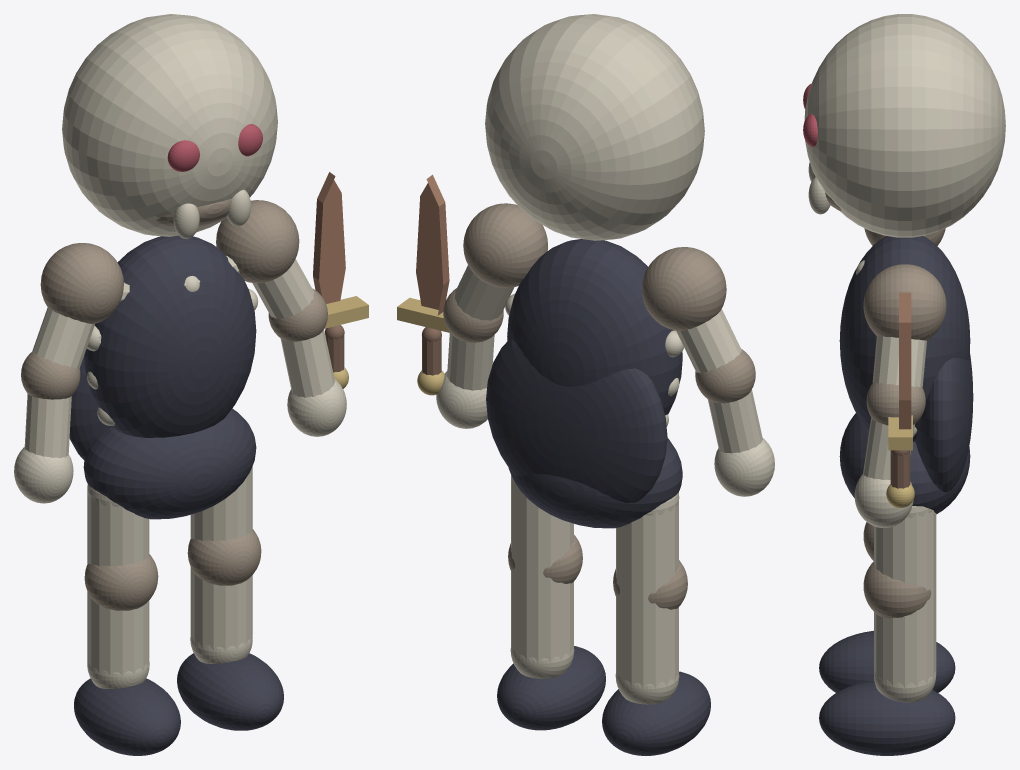
The model's file is monster_bone_skeleton.glb.
The picture shows the model from 3 angles, left to right: view 1: azimuth 30°, elevation 25°; view 2: azimuth 150°, elevation 25°; view 3: azimuth 270°, elevation 25°; orthographic projection. The views are drawn at different scales.
Parts seen in each view (by area): view 1: skull, rib_body, pelvis, bone_leg_-1_shaft, bone_leg_1_shaft, ragged_boot_1, ragged_boot_-1, shoulder_joint_-1, shoulder_joint_1, rust_sword_blade, knee_joint_1, knee_joint_-1 (+17 smaller); view 2: skull, ragged_tunic, rib_body, bone_leg_-1_shaft, bone_leg_1_shaft, ragged_boot_1, ragged_boot_-1, pelvis, shoulder_joint_-1, shoulder_joint_1, rust_sword_blade, hand_-1 (+13 smaller); view 3: skull, rib_body, bone_leg_1_shaft, ragged_boot_1, ragged_tunic, shoulder_joint_1, pelvis, ragged_boot_-1, knee_joint_1, hand_1, upper_arm_1_shaft, rust_sword_blade (+9 smaller).
Boxes of the visible parts, x1,y1,x2,y2 form: skull: (62,14,277,236); rib_body: (84,235,256,437); pelvis: (83,408,256,519); bone_leg_-1_shaft: (87,490,149,676); bone_leg_1_shaft: (190,467,252,651); ragged_boot_1: (177,653,283,730); ragged_boot_-1: (74,678,180,755); shoulder_joint_-1: (40,243,123,324); shoulder_joint_1: (216,200,299,283); rust_sword_blade: (313,172,345,303); knee_joint_1: (187,529,261,585); knee_joint_-1: (84,554,158,610); skull: (485,14,704,240); ragged_tunic: (486,338,667,502); rib_body: (507,239,682,415); bone_leg_-1_shaft: (616,500,678,688); bone_leg_1_shaft: (511,476,573,663); ragged_boot_1: (497,646,605,730); ragged_boot_-1: (602,671,710,755); pelvis: (508,438,682,528); shoulder_joint_-1: (642,247,726,331); shoulder_joint_1: (463,203,547,287); rust_sword_blade: (416,174,449,315); hand_-1: (714,438,774,496); skull: (804,14,1005,237); rib_body: (839,236,970,441); bone_leg_1_shaft: (874,510,936,687); ragged_boot_1: (819,681,955,755); ragged_tunic: (915,352,973,492); shoulder_joint_1: (863,264,946,340); pelvis: (839,413,970,514); ragged_boot_-1: (819,630,955,692); knee_joint_1: (863,561,931,618); hand_1: (854,474,913,527); upper_arm_1_shaft: (872,336,926,387); rust_sword_blade: (899,292,911,429).
Bounding box in the file's own units: 1.37 × 2.61 × 0.6837.
